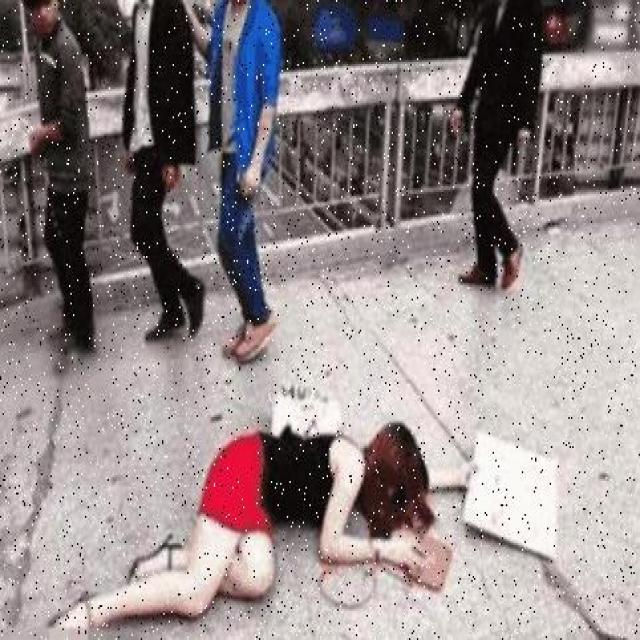fall: (56, 421, 443, 638)
